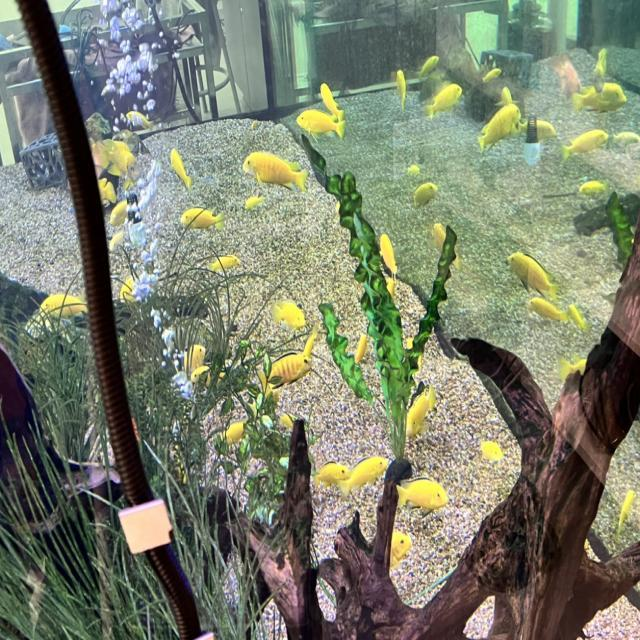YellowCichlid: (288, 110, 344, 164), (504, 246, 562, 292), (240, 149, 306, 189), (476, 104, 516, 162), (159, 144, 205, 190), (574, 83, 638, 116), (398, 474, 451, 512), (259, 353, 314, 386), (215, 412, 262, 450), (408, 386, 438, 444), (385, 58, 411, 123), (272, 290, 310, 332), (567, 128, 613, 162), (430, 216, 462, 262), (614, 481, 636, 547), (197, 250, 254, 275), (430, 84, 466, 121), (349, 454, 384, 491), (381, 228, 406, 278), (38, 290, 82, 318), (176, 203, 218, 232), (520, 300, 562, 328), (312, 456, 344, 488), (520, 111, 552, 143), (101, 135, 129, 170), (417, 45, 447, 76), (586, 49, 620, 76), (560, 345, 589, 376), (411, 185, 444, 212), (478, 434, 502, 470), (573, 176, 612, 197), (314, 74, 338, 108), (122, 268, 148, 299), (124, 104, 152, 132), (570, 296, 594, 328), (110, 202, 148, 220), (389, 528, 407, 566), (348, 335, 372, 363), (186, 344, 212, 366), (238, 197, 273, 210), (95, 174, 114, 197), (496, 85, 516, 104), (401, 160, 423, 177), (404, 330, 418, 352), (619, 128, 636, 146), (186, 373, 216, 382), (386, 281, 396, 302)
